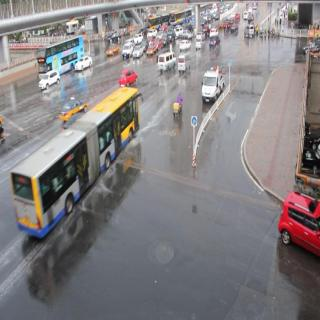BigCar: (5, 86, 144, 235), (34, 41, 77, 69), (169, 10, 193, 24), (148, 14, 165, 29)
Car: (280, 192, 320, 255), (201, 66, 225, 104), (60, 95, 88, 121), (154, 50, 176, 76), (39, 71, 61, 91), (119, 67, 138, 90), (73, 55, 96, 73), (177, 53, 191, 76), (105, 43, 120, 58), (179, 38, 192, 54), (122, 42, 134, 59), (195, 34, 205, 53), (133, 40, 142, 60), (107, 30, 122, 42), (147, 41, 158, 56), (244, 24, 253, 40), (209, 36, 220, 49), (182, 28, 192, 40), (232, 23, 239, 35)
